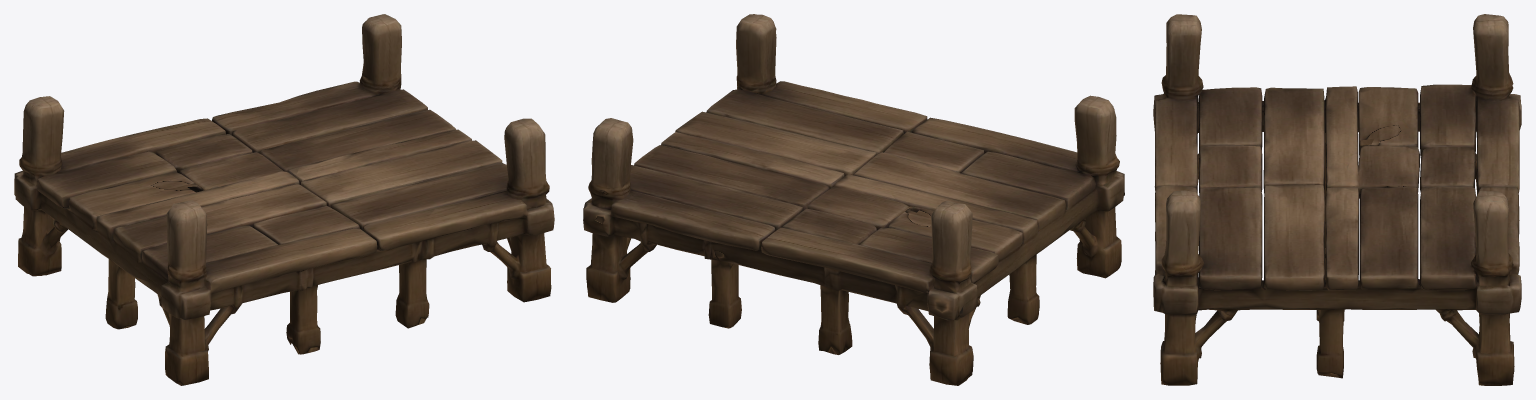
The model's file is pier_wood.glb.
3 renders of one model, left to right at view 1: azimuth 30°, elevation 25°; view 2: azimuth 150°, elevation 25°; view 3: azimuth 270°, elevation 25°, orthographic. The views are drawn at different scales.
Visible parts, largest first — view 1: geometry_0; view 2: geometry_0; view 3: geometry_0.
Boxes of the visible parts, x1,y1,x2,y2 form: geometry_0: (14,14,554,385); geometry_0: (583,14,1124,385); geometry_0: (1153,14,1521,385).
Size of the model in its own units: 0.9983 by 0.4272 by 0.7833.
Materials: 1 (1 with a texture image).
